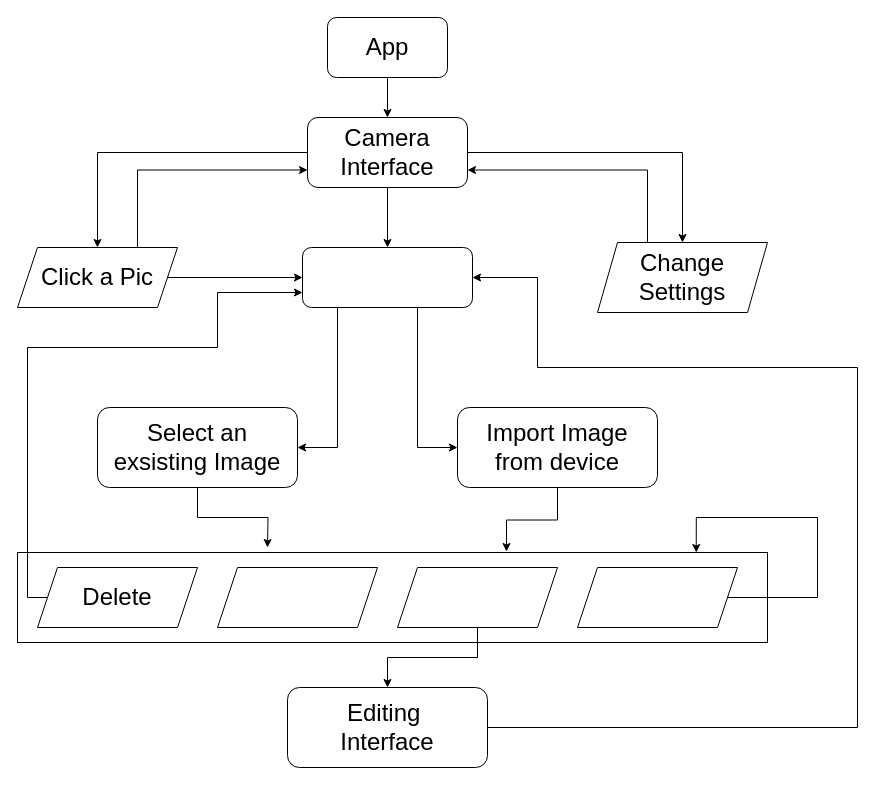
This 883x785 diagram has some shape labels left out. Each missing label, with the box of its shape:
Edit: (396, 566, 558, 628)
Export: (216, 566, 378, 628)
Gallery: (302, 246, 472, 308)
Multiselect: (576, 566, 738, 628)
